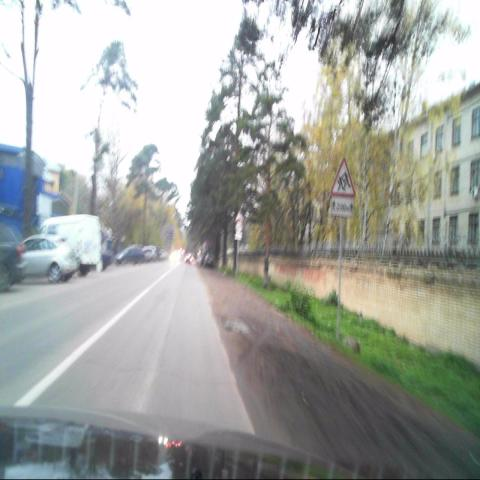1_23: (329, 157, 356, 197)
8_2_1: (331, 197, 353, 217)
